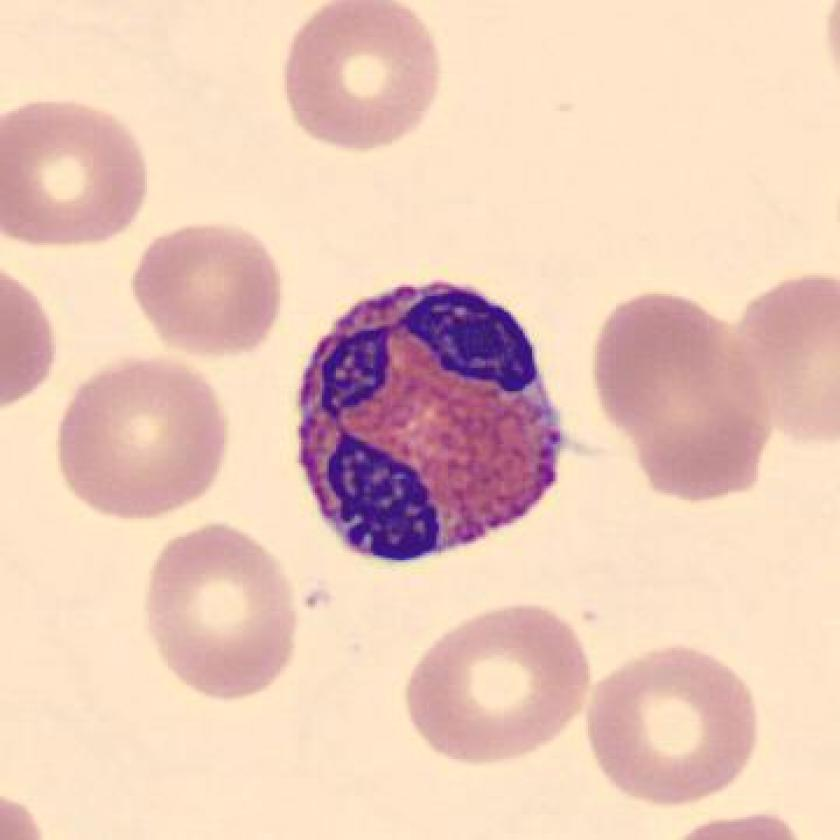eosinophil: (290, 270, 575, 580)
